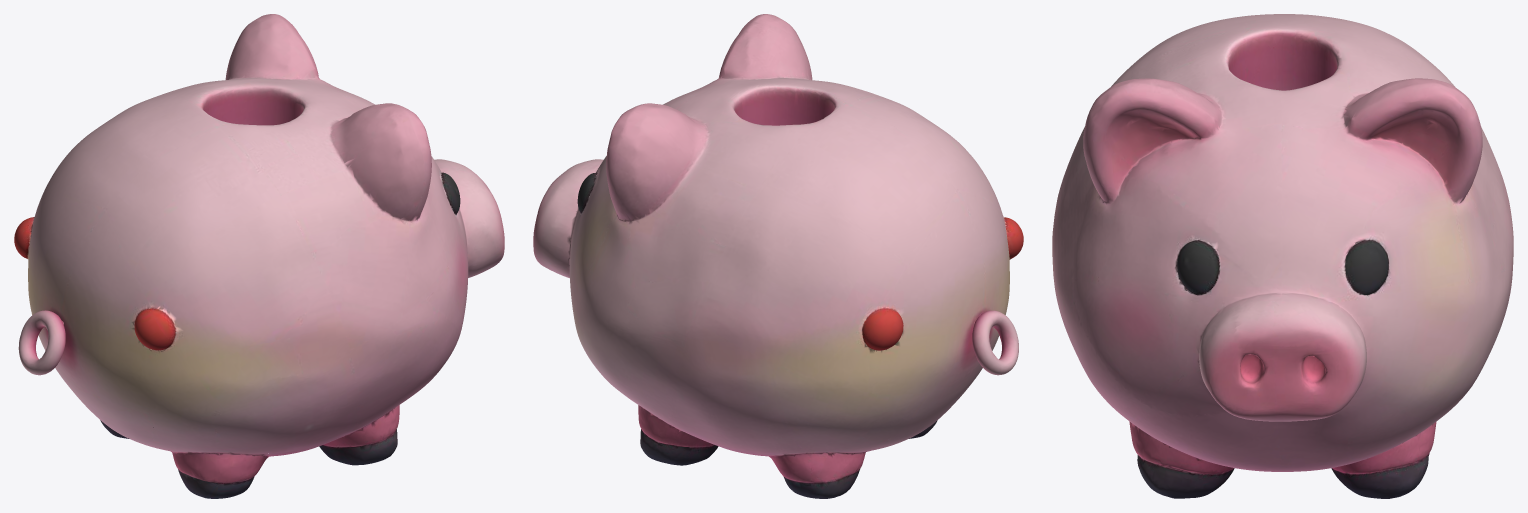
The model's file is env_nest_piggybank_01.glb.
3 views of the same model, side by side, from view 1: azimuth 30°, elevation 25°; view 2: azimuth 150°, elevation 25°; view 3: azimuth 270°, elevation 25° (orthographic). The views are drawn at different scales.
Visible parts, largest first — view 1: tripo_node_25a8a51d-4c60-4485-94cb-2348f10c0c2f; view 2: tripo_node_25a8a51d-4c60-4485-94cb-2348f10c0c2f; view 3: tripo_node_25a8a51d-4c60-4485-94cb-2348f10c0c2f.
Part boxes in pixels (bbox=[...]): tripo_node_25a8a51d-4c60-4485-94cb-2348f10c0c2f: bbox=[14, 14, 504, 498]; tripo_node_25a8a51d-4c60-4485-94cb-2348f10c0c2f: bbox=[533, 14, 1023, 498]; tripo_node_25a8a51d-4c60-4485-94cb-2348f10c0c2f: bbox=[1052, 14, 1513, 498].
Size of the model in its own units: 1.32 by 1 by 1.
Materials: 1 (1 with a texture image).
